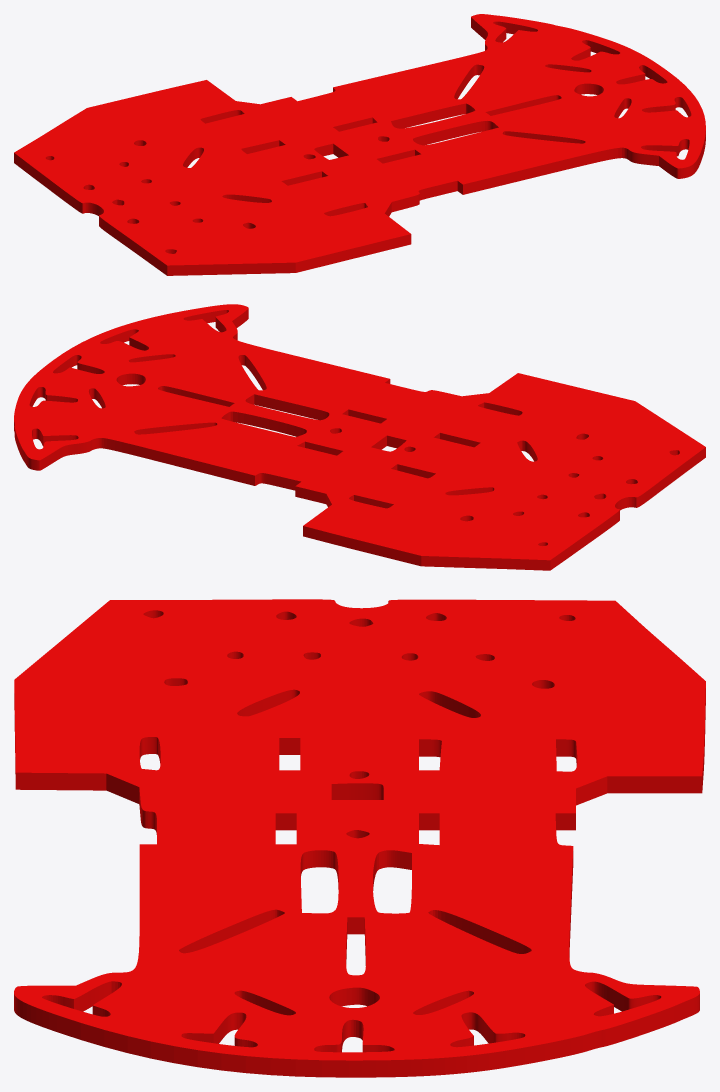
The model's file is bottom_plate.dae.
The picture shows the model from 3 angles, top to bottom: view 1: azimuth 30°, elevation 25°; view 2: azimuth 150°, elevation 25°; view 3: azimuth 270°, elevation 25°; orthographic projection. The views are drawn at different scales.
Parts seen in each view (by area): view 1: Curve; view 2: Curve; view 3: Curve.
Part boxes in pixels (x1=…): Curve: x1=14, y1=14, x2=705, y2=275; Curve: x1=14, y1=304, x2=705, y2=570; Curve: x1=14, y1=599, x2=705, y2=1077.
Bounding box in the file's own units: 0.1735 × 0.11 × 0.003.
